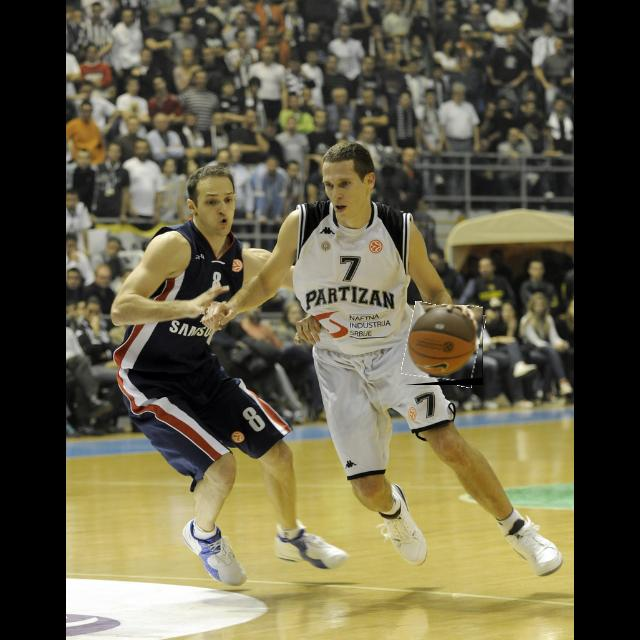Football: (405, 305, 483, 385)
